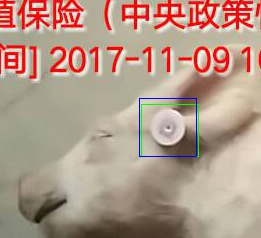text: (141, 104, 198, 156)
